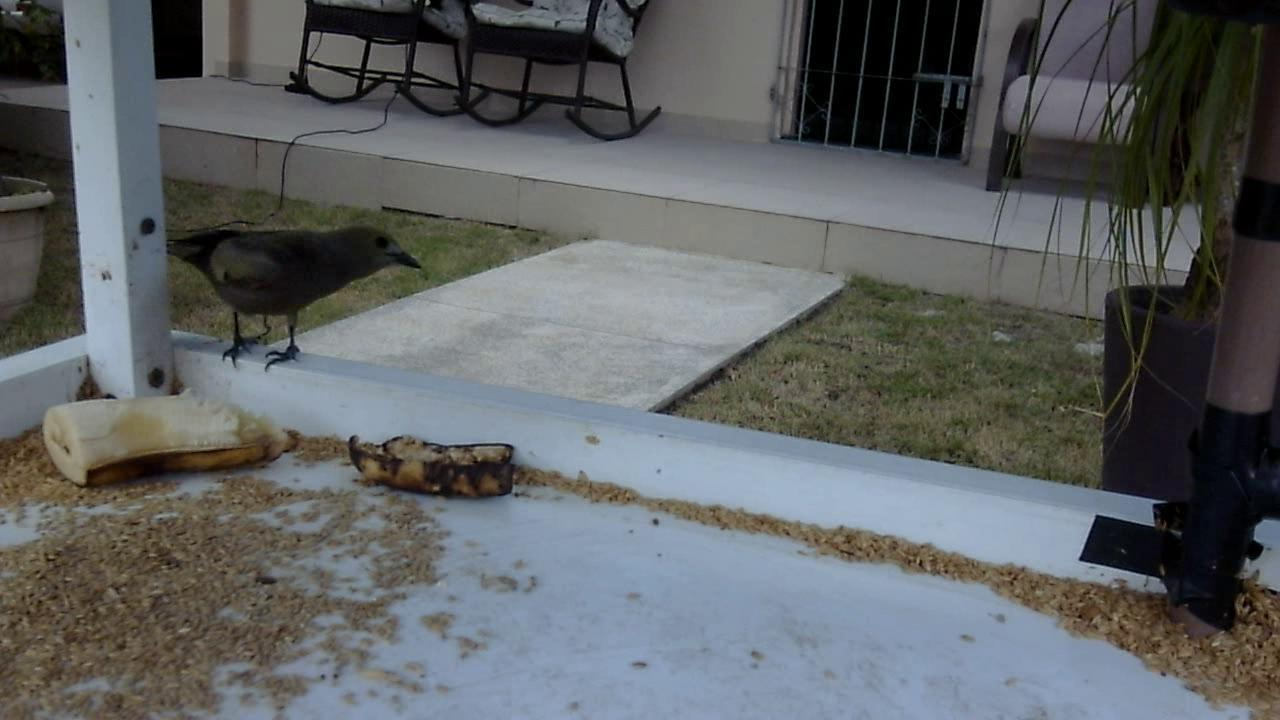sanhaco_do_coqueiro: (162, 214, 424, 382)
